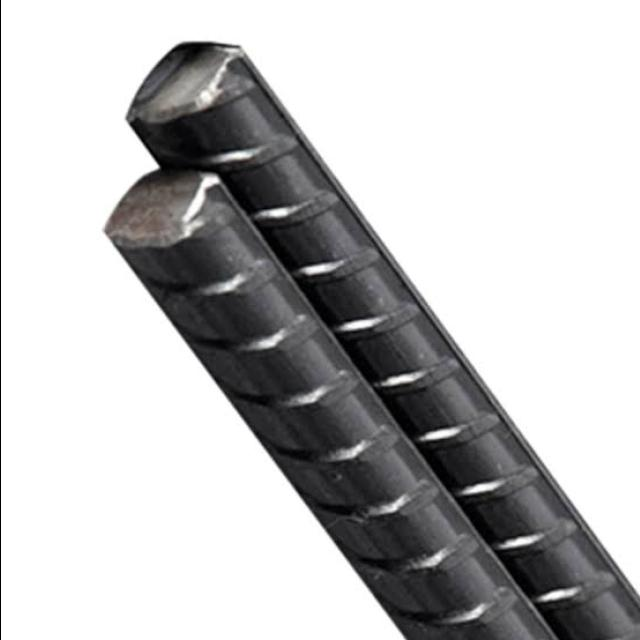Rebar: (103, 35, 238, 131), (103, 161, 230, 255)
